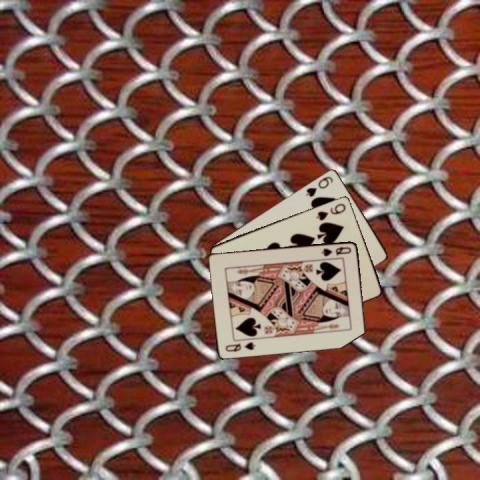6s: (303, 173, 335, 198)
9s: (314, 200, 348, 222)
Qs: (318, 244, 352, 257), (223, 339, 256, 352)
